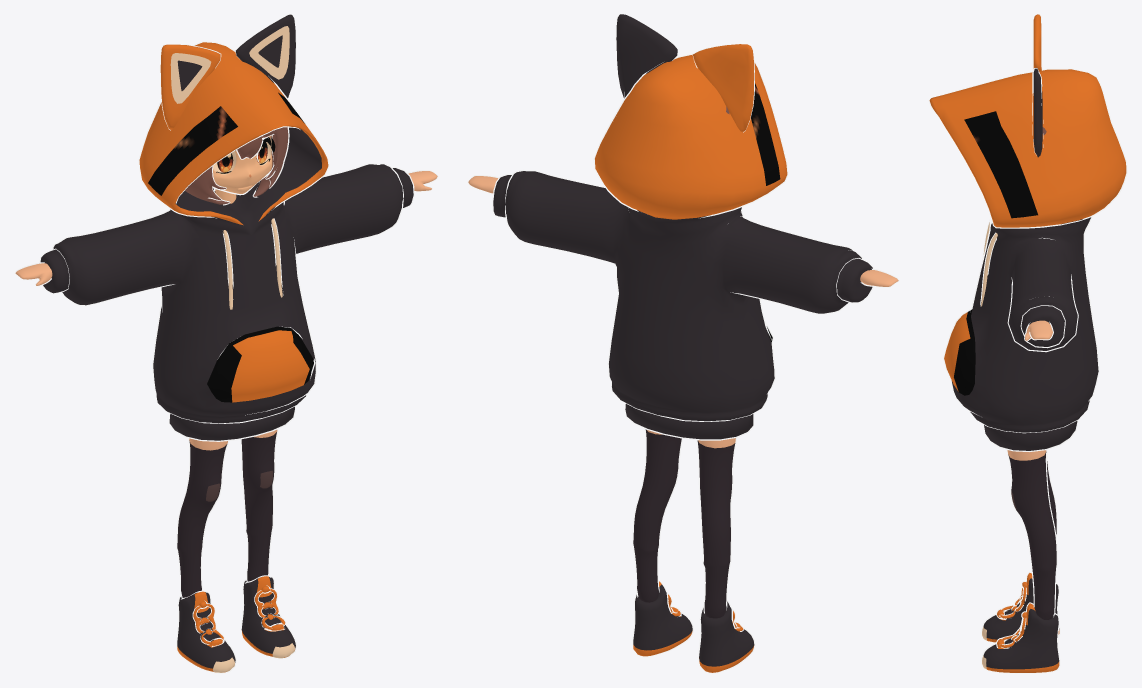
Rendered from character.glb.
3 renders of one model, left to right at view 1: azimuth 30°, elevation 25°; view 2: azimuth 150°, elevation 25°; view 3: azimuth 270°, elevation 25°, orthographic. The views are drawn at different scales.
Visible parts, largest first — view 1: color; view 2: color; view 3: color.
Boxes of the visible parts, <box> form: color: <box>14,14,438,673</box>; color: <box>467,14,899,673</box>; color: <box>928,14,1127,673</box>.
Size of the model in its own units: 0.7082 by 0.9983 by 0.2957.
Materials: 2 (1 with a texture image).
